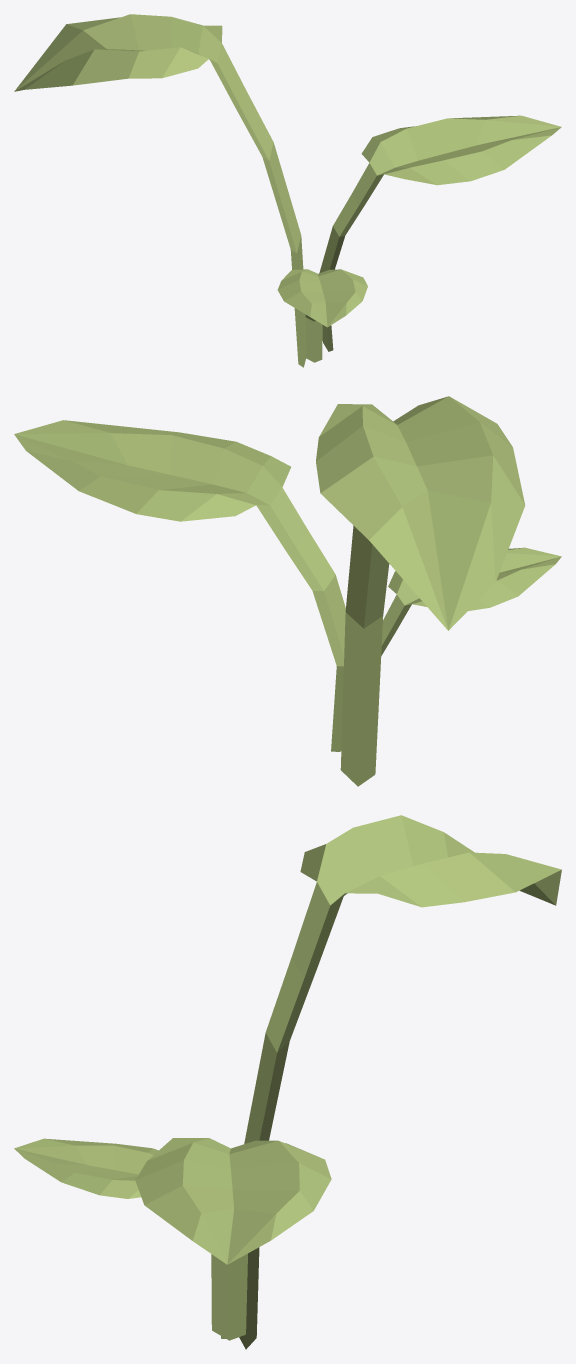
Rendered from sprout.gltf.
3 views of the same model, one above another, from view 1: azimuth 30°, elevation 25°; view 2: azimuth 150°, elevation 25°; view 3: azimuth 270°, elevation 25° (orthographic). The views are drawn at different scales.
Parts seen in each view (by area): view 1: Leaf.002, Leaf, Leaf.001; view 2: Leaf.002, Leaf, Leaf.001; view 3: Leaf.002, Leaf, Leaf.001.
Part boxes in pixels (x1=…): Leaf.002: x1=14, y1=14, x2=306, y2=367; Leaf: x1=319, y1=115, x2=561, y2=351; Leaf.001: x1=277, y1=269, x2=367, y2=362; Leaf.002: x1=316, y1=396, x2=525, y2=786; Leaf: x1=14, y1=420, x2=345, y2=751; Leaf.001: x1=381, y1=547, x2=561, y2=655; Leaf.002: x1=239, y1=815, x2=561, y2=1349; Leaf: x1=135, y1=1138, x2=331, y2=1340; Leaf.001: x1=14, y1=1138, x2=225, y2=1338.
Bounding box in the file's own units: 4.67 × 3.27 × 3.66.
